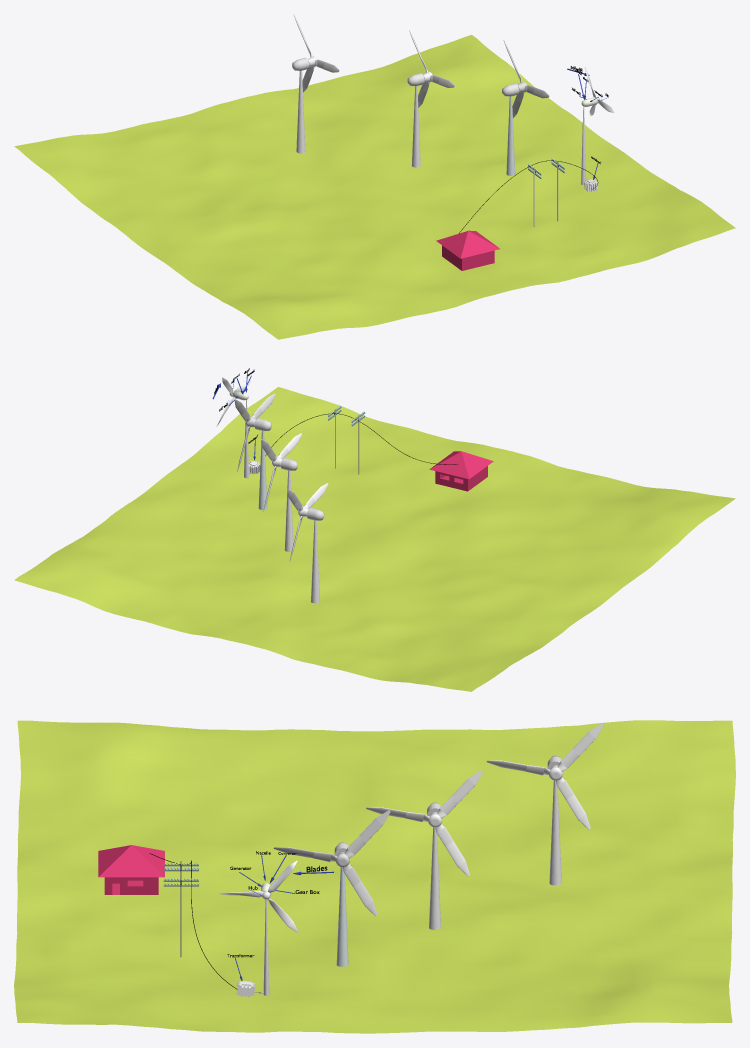
The model's file is Wind Energy.blend2.gltf.
The picture shows the model from 3 angles, top to bottom: view 1: azimuth 30°, elevation 25°; view 2: azimuth 150°, elevation 25°; view 3: azimuth 270°, elevation 25°; orthographic projection. The views are drawn at different scales.
Parts seen in each view (by area): view 1: Plane, Cube, Cylinder.008, Cylinder.006, Cylinder.005, Cylinder.002; view 2: Plane, Cube, Cylinder.002, Cylinder.008, Cylinder.005, Cylinder.006; view 3: Plane, Cube, Cylinder.002, Cylinder.008, Cylinder.005, Cylinder.006, Cylinder.003, Cylinder, Cylinder.009.
Part boxes in pixels (<box>): Plane: <box>14,34,735,339</box>; Cube: <box>436,230,499,270</box>; Cylinder.008: <box>293,14,339,92</box>; Cylinder.006: <box>296,70,305,153</box>; Cylinder.005: <box>409,30,454,107</box>; Cylinder.002: <box>503,40,549,117</box>; Plane: <box>14,387,735,691</box>; Cube: <box>429,451,493,491</box>; Cylinder.002: <box>234,393,275,471</box>; Cylinder.008: <box>287,483,328,561</box>; Cylinder.005: <box>261,433,302,511</box>; Cylinder.006: <box>311,520,319,603</box>; Plane: <box>14,720,735,1033</box>; Cube: <box>98,845,164,894</box>; Cylinder.002: <box>273,810,390,916</box>; Cylinder.008: <box>486,723,603,829</box>; Cylinder.005: <box>366,770,482,876</box>; Cylinder.006: <box>549,780,561,885</box>; Cylinder.003: <box>429,827,440,929</box>; Cylinder: <box>336,867,348,966</box>; Cylinder.009: <box>219,860,298,932</box>.
Bounding box in the file's own units: 6.16 × 1.6 × 6.18.
